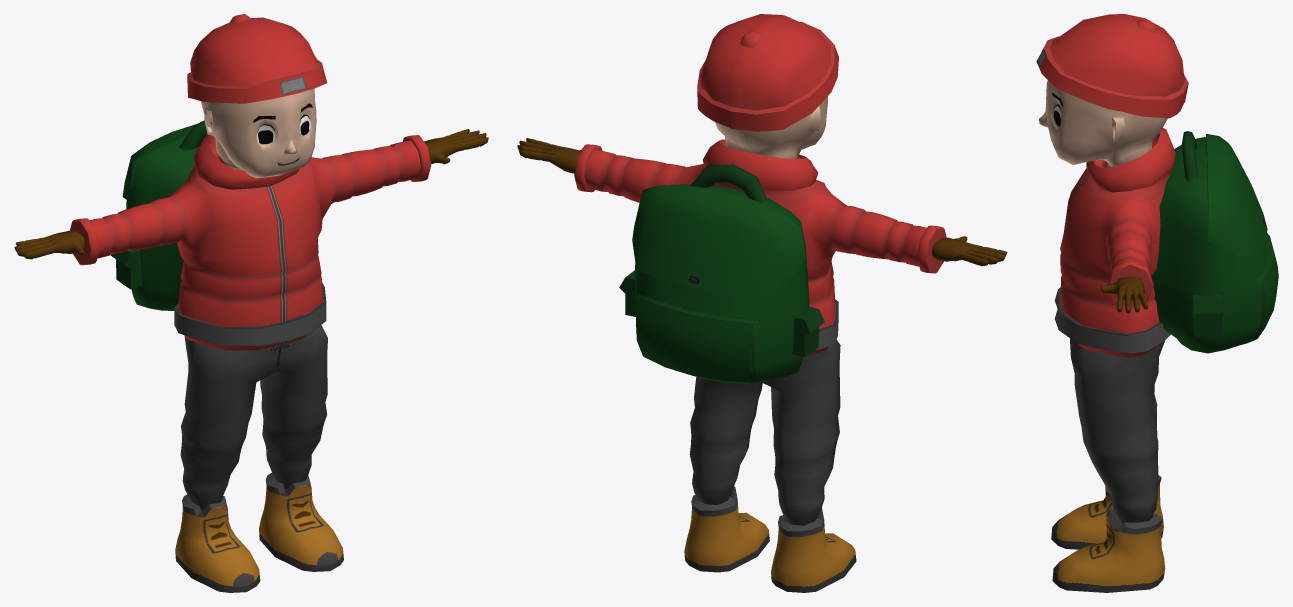
Rendered from Alpinista.fbx.
3 views of the same model, side by side, from view 1: azimuth 30°, elevation 25°; view 2: azimuth 150°, elevation 25°; view 3: azimuth 270°, elevation 25° (orthographic).
Parts seen in each view (by area): view 1: Caracter; view 2: Caracter; view 3: Caracter.
Boxes of the visible parts, x1,y1,x2,y2 form: Caracter: (14, 14, 488, 592); Caracter: (517, 14, 1007, 592); Caracter: (1036, 14, 1278, 592).
Size of the model in its own units: 3.01 by 3.25 by 1.32.
